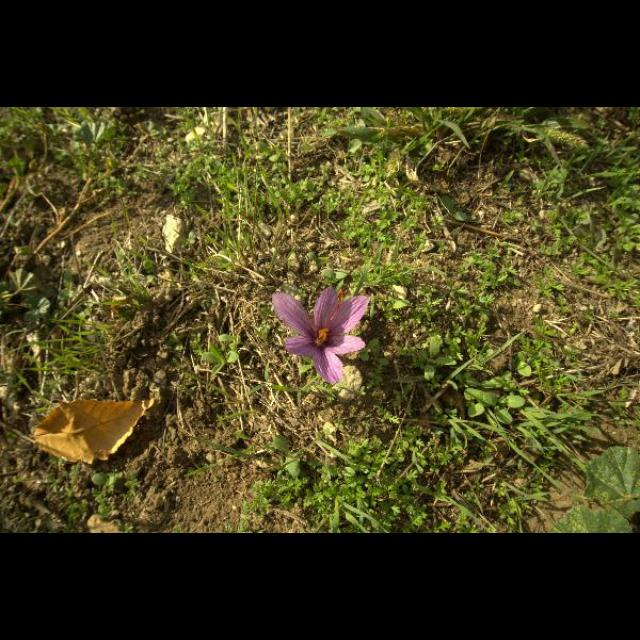flower: (272, 287, 372, 385)
